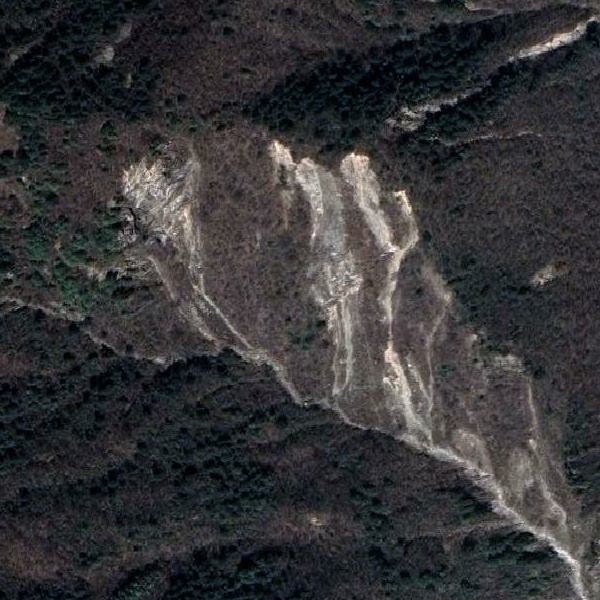slope: (339, 149, 453, 444), (266, 142, 365, 400), (121, 149, 211, 291), (428, 422, 513, 519)
